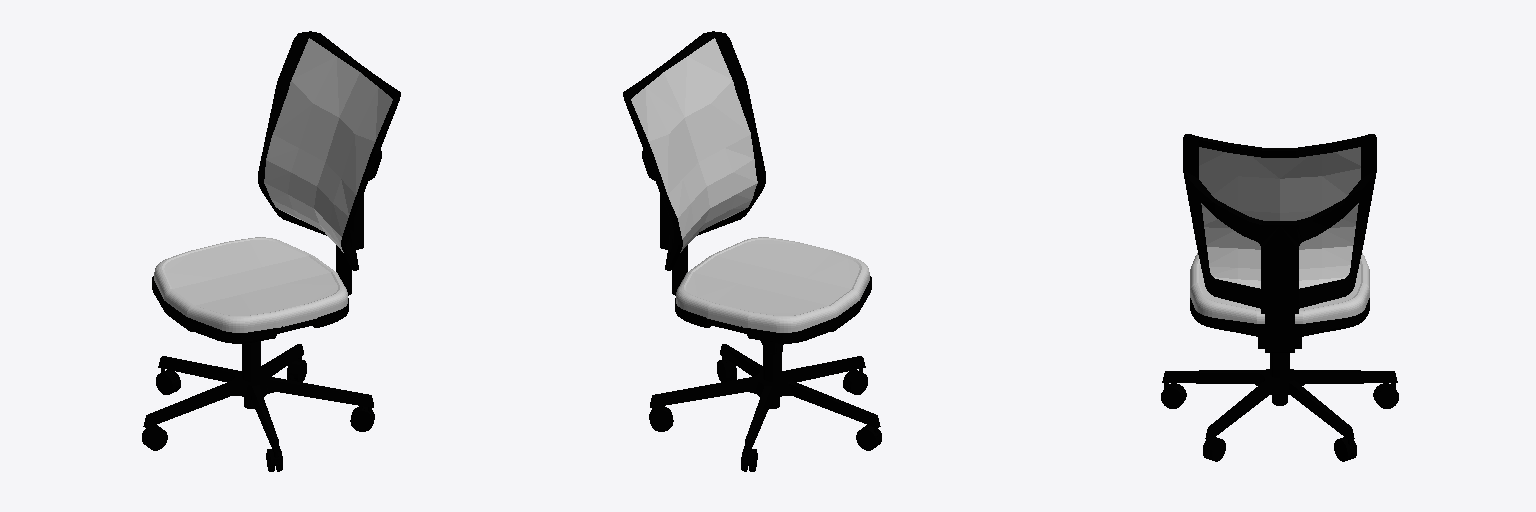
Rendered from chair.obj.
The picture shows the model from 3 angles: view 1: azimuth 30°, elevation 25°; view 2: azimuth 150°, elevation 25°; view 3: azimuth 270°, elevation 25°; orthographic projection.
Visible parts, largest first — view 1: Plane002_Untitled.001, Box005_Untitled.005, Base_Untitled.003, Box002_Untitled.013, Cylinder009_Untitled.012; view 2: Plane002_Untitled.001, Box005_Untitled.005, Base_Untitled.003, Box002_Untitled.013, Cylinder009_Untitled.012; view 3: Plane002_Untitled.001, Base_Untitled.003, Box005_Untitled.005, Box002_Untitled.013, Box006_Untitled.008, Cylinder009_Untitled.012, Cylinder007_Untitled.007, Cylinder004_Untitled.011.
Part boxes in pixels (x1,y1,x2,y2): Plane002_Untitled.001: (258, 31, 400, 270); Box005_Untitled.005: (154, 237, 347, 332); Base_Untitled.003: (143, 344, 373, 451); Box002_Untitled.013: (152, 276, 348, 343); Cylinder009_Untitled.012: (242, 341, 260, 408); Plane002_Untitled.001: (623, 31, 765, 270); Box005_Untitled.005: (676, 237, 869, 332); Base_Untitled.003: (650, 344, 880, 451); Box002_Untitled.013: (675, 276, 871, 343); Cylinder009_Untitled.012: (763, 346, 781, 408); Plane002_Untitled.001: (1183, 134, 1376, 313); Base_Untitled.003: (1162, 369, 1397, 440); Box005_Untitled.005: (1190, 253, 1369, 323); Box002_Untitled.013: (1190, 298, 1369, 348); Box006_Untitled.008: (1265, 314, 1294, 352); Cylinder009_Untitled.012: (1270, 353, 1289, 405); Cylinder007_Untitled.007: (1373, 383, 1398, 408); Cylinder004_Untitled.011: (1161, 383, 1186, 408).
Size of the model in its own units: 0.66 by 0.9479 by 0.6117.